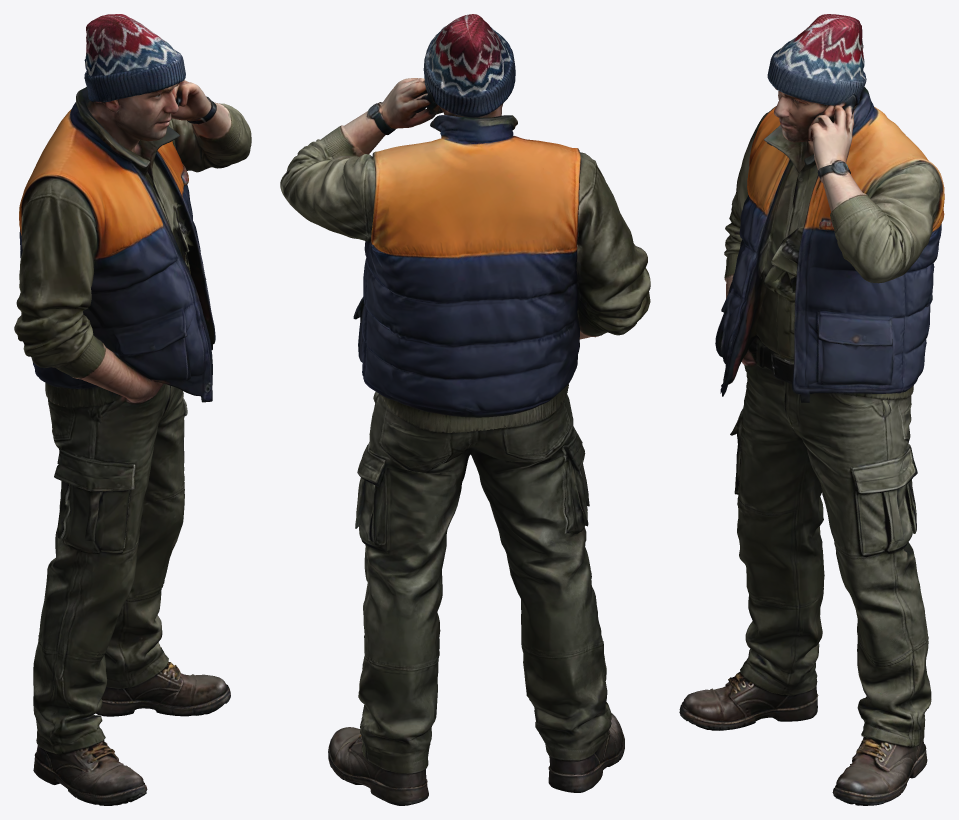
Rendered from skier.glb.
3 renders of one model, left to right at view 1: azimuth 30°, elevation 25°; view 2: azimuth 150°, elevation 25°; view 3: azimuth 270°, elevation 25°, orthographic. The views are drawn at different scales.
Parts seen in each view (by area): view 1: tripo_node_e1782990-32e3-4792-8c8a-863d237da411; view 2: tripo_node_e1782990-32e3-4792-8c8a-863d237da411; view 3: tripo_node_e1782990-32e3-4792-8c8a-863d237da411.
Boxes of the visible parts, box(x1,y1,x2,y2) form: tripo_node_e1782990-32e3-4792-8c8a-863d237da411: box(14, 14, 251, 805); tripo_node_e1782990-32e3-4792-8c8a-863d237da411: box(280, 14, 650, 805); tripo_node_e1782990-32e3-4792-8c8a-863d237da411: box(679, 14, 944, 805).
Size of the model in its own units: 0.4064 by 0.9811 by 0.3194.
Materials: 1 (1 with a texture image).
